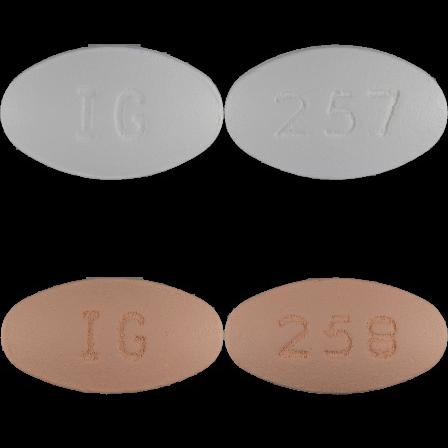33358-251: (0, 0, 224, 224)
